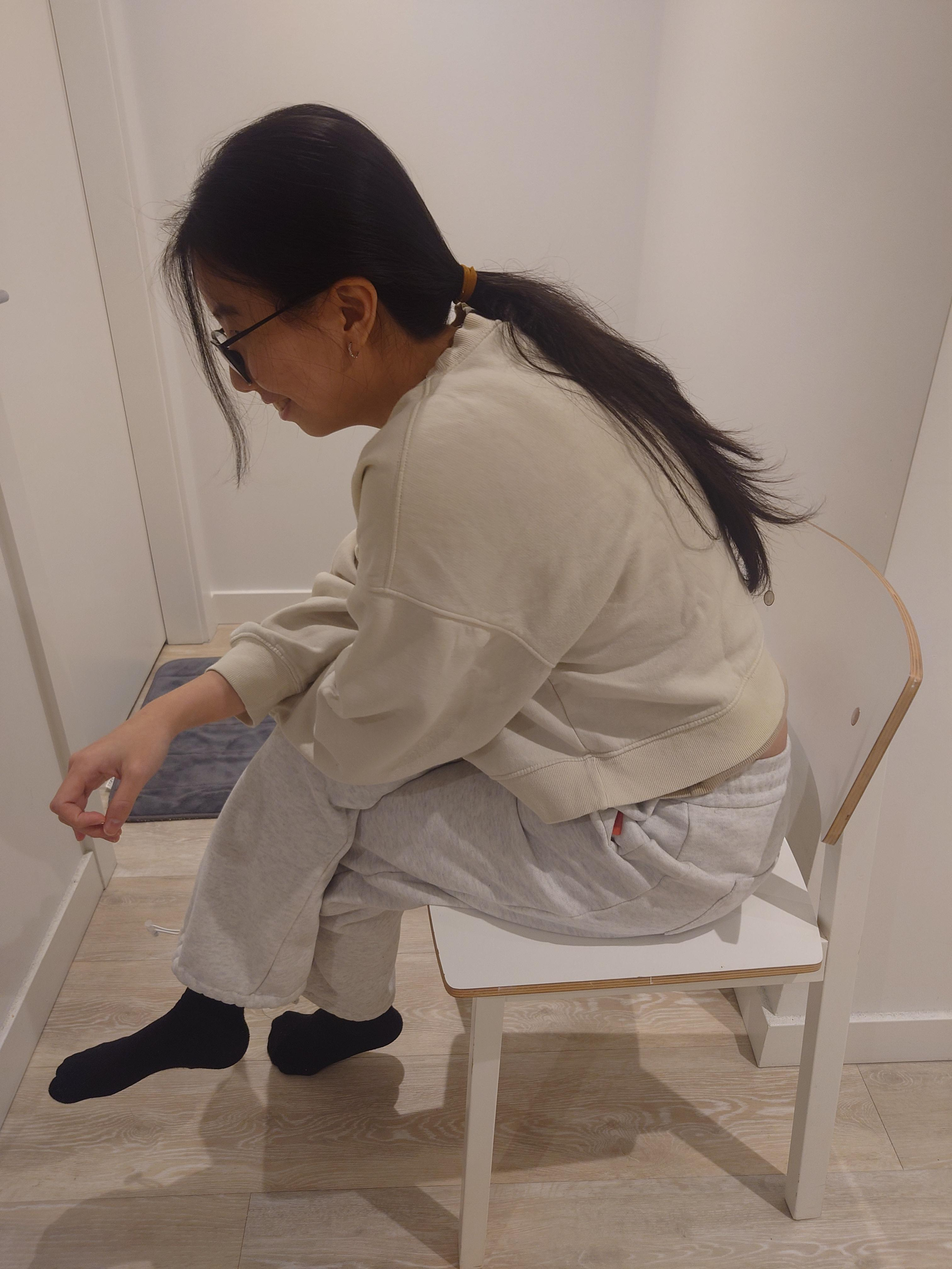BadPosture: (43, 100, 798, 1105)
